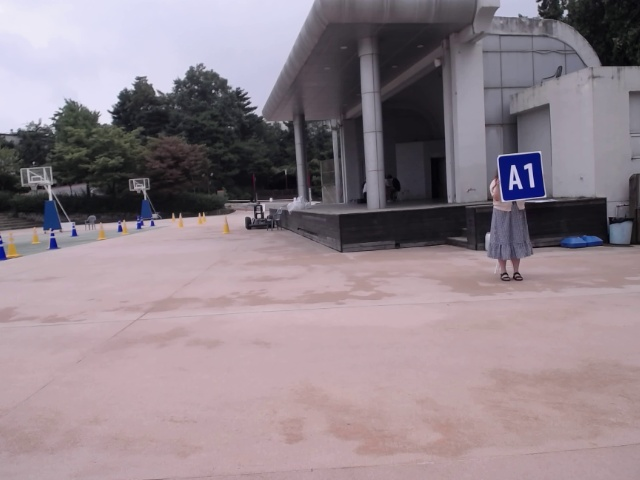delivery_a1: (497, 151, 546, 201)
